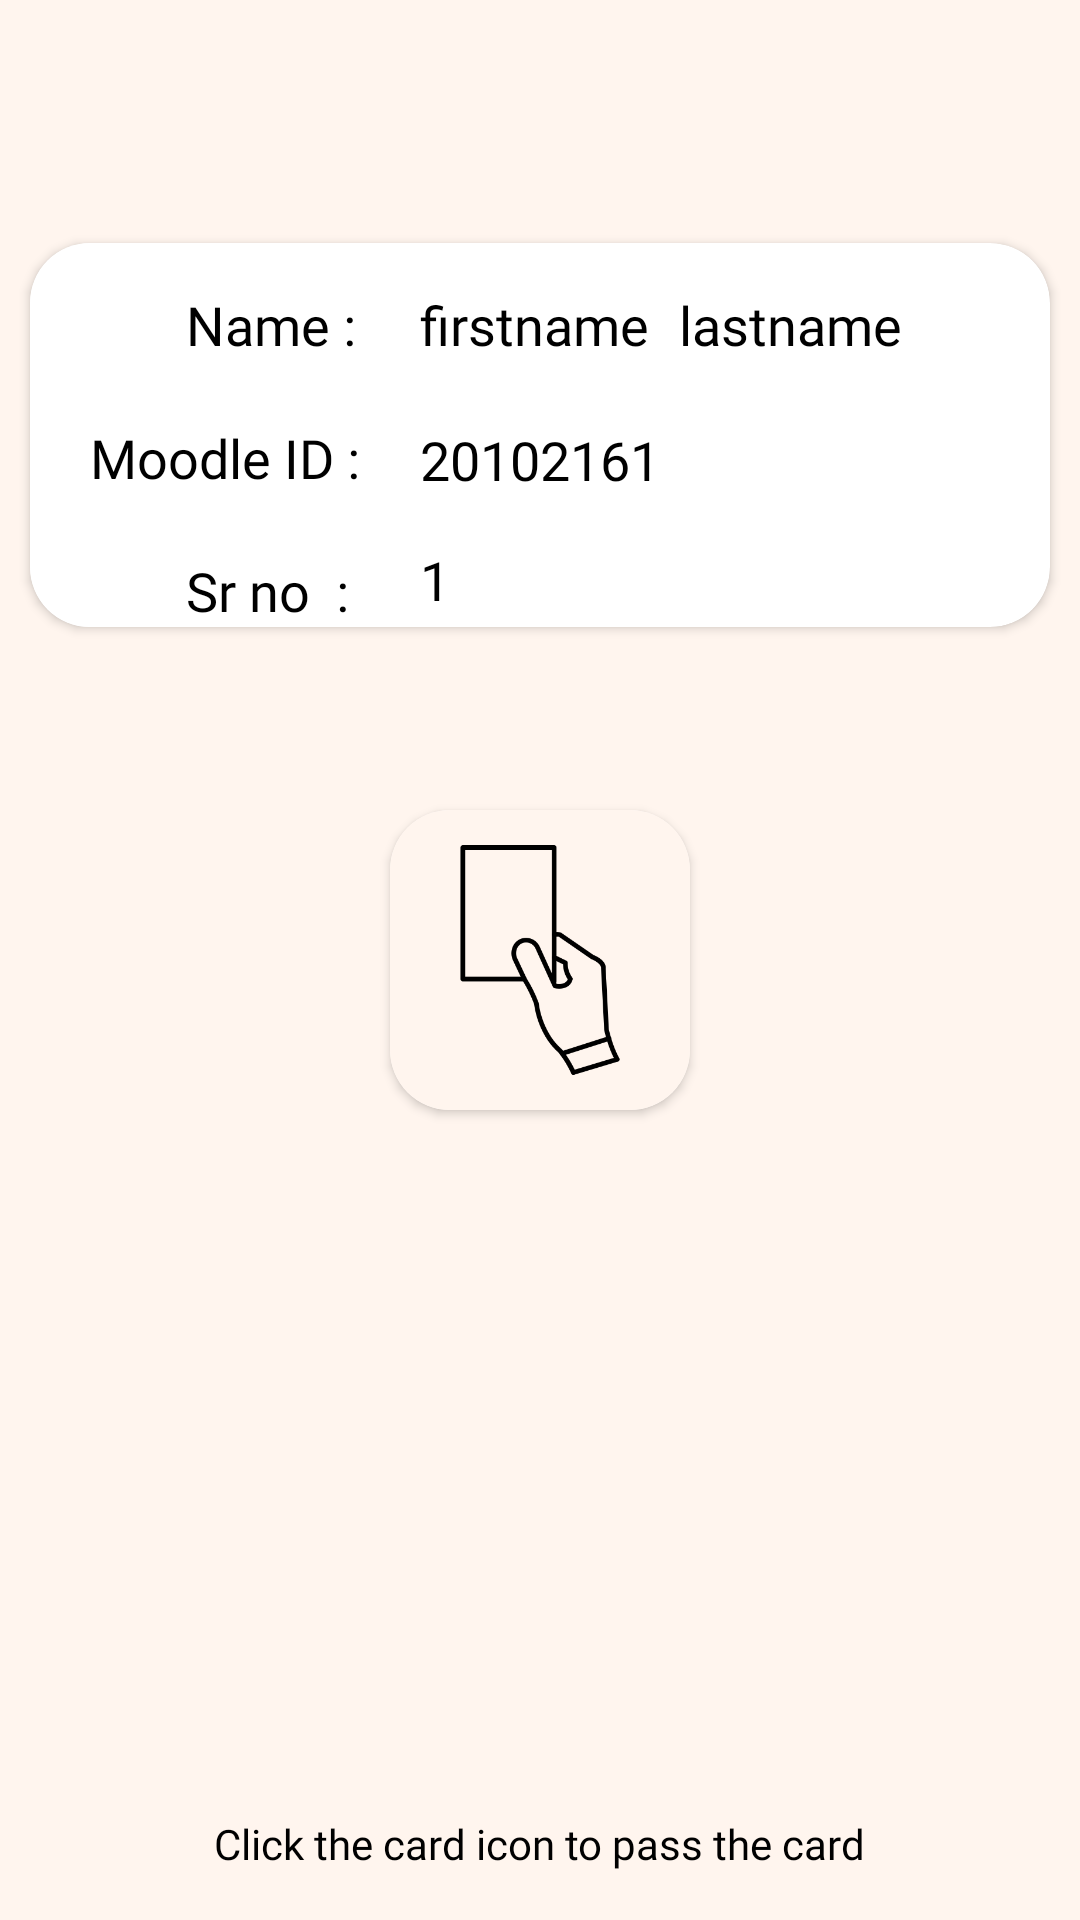

Screen size 1080x1920. Icon name, then its box in pixels as box(x1, y1, x2, y2):
passthecardicon: box(391, 845, 689, 1110)
